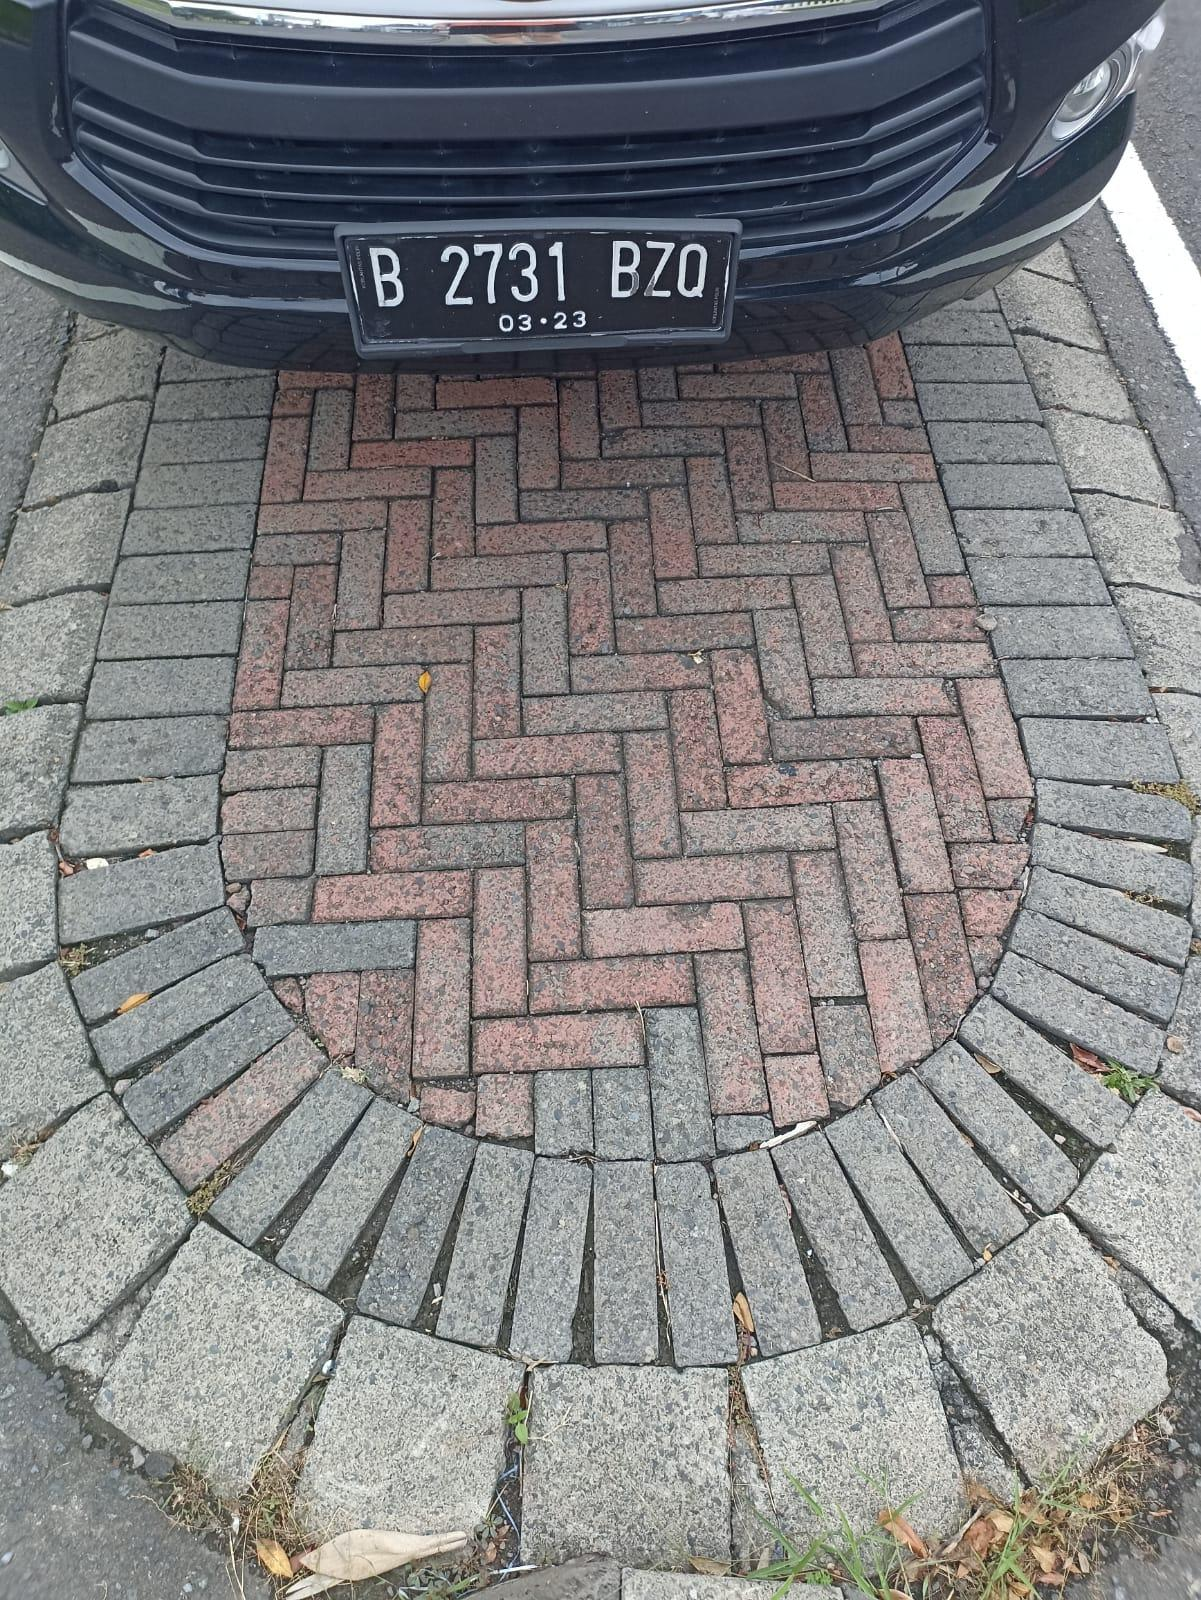plat: (338, 218, 741, 356)
